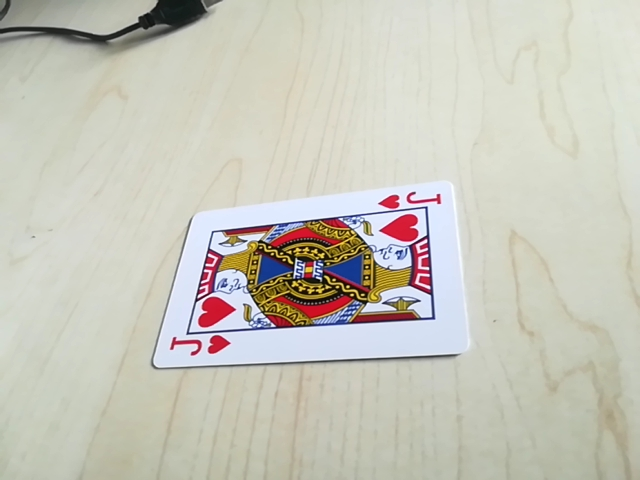hx j: (165, 331, 232, 363), (379, 186, 445, 212)
